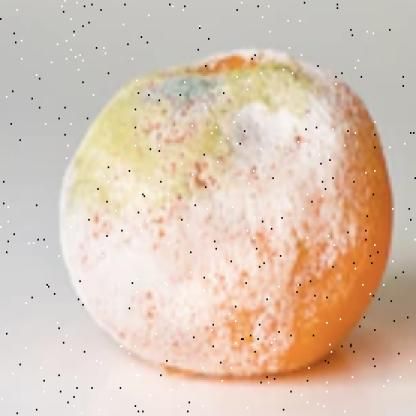rotten: (61, 47, 392, 387)
